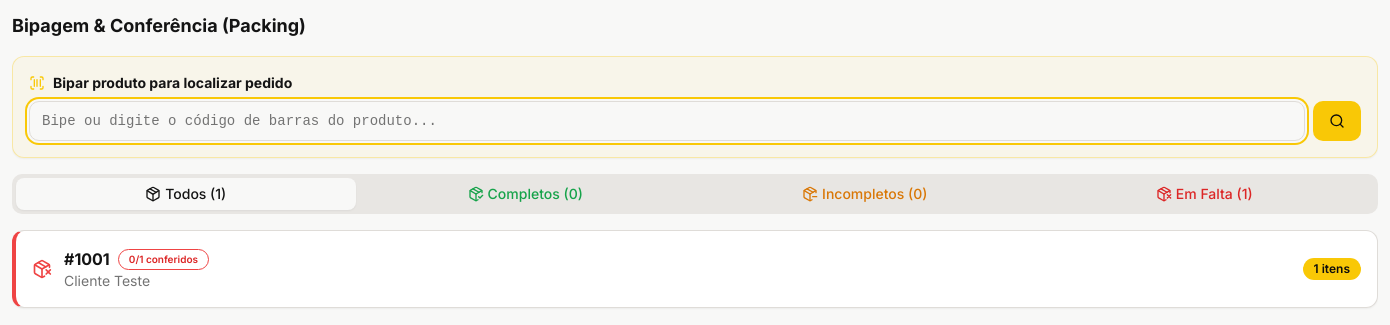
Scenario: embalagem › ExpeditionPackingStation localiza o pedido e bipa o item pela etiqueta nova
This screenshot has width=1390, height=325.
Later steps or results of the test are not shown.
Type "T101-37" into the field with placeholder "Bipe ou digite o código de barras do produto..." at (667, 121), box [29,101,1305,141]
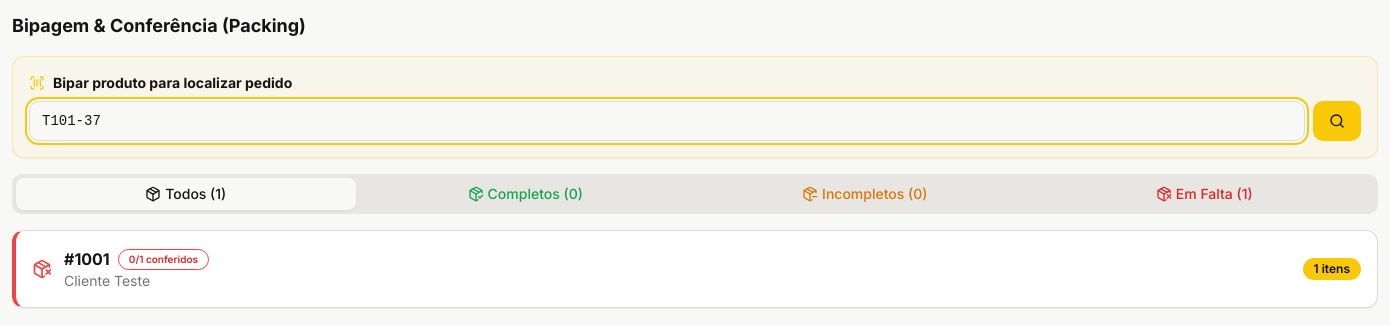
Press Enter in the field with placeholder "Bipe ou digite o código de barras do produto...", box [29,101,1305,141]
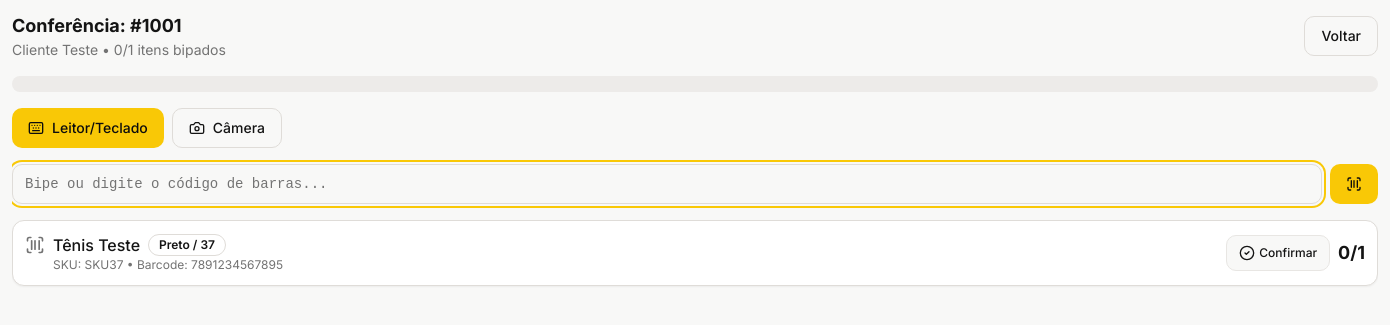
Now the heading "Conferência: #1001" is shown, box [12,15,182,36]
